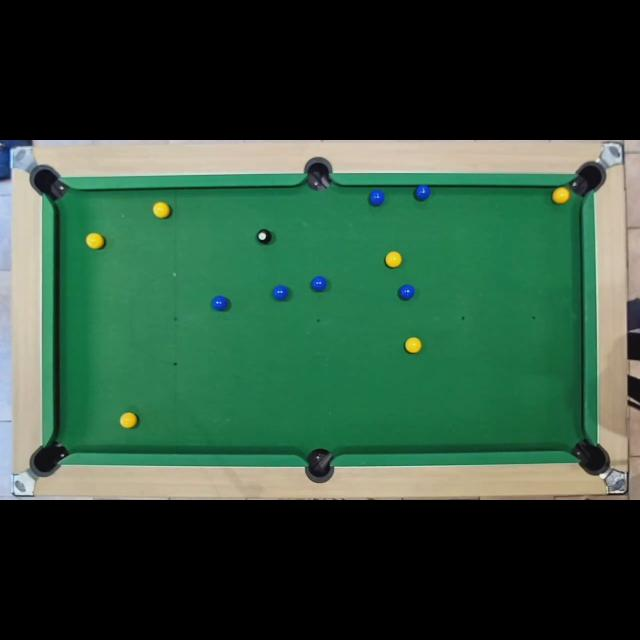Ball: (86, 233, 104, 249), (119, 412, 137, 428), (153, 202, 170, 218), (412, 186, 428, 202), (311, 276, 327, 292), (553, 187, 569, 203), (398, 285, 414, 301), (386, 252, 402, 268), (368, 190, 384, 206), (405, 338, 421, 354), (272, 286, 290, 300), (256, 230, 272, 244), (212, 296, 226, 312)
